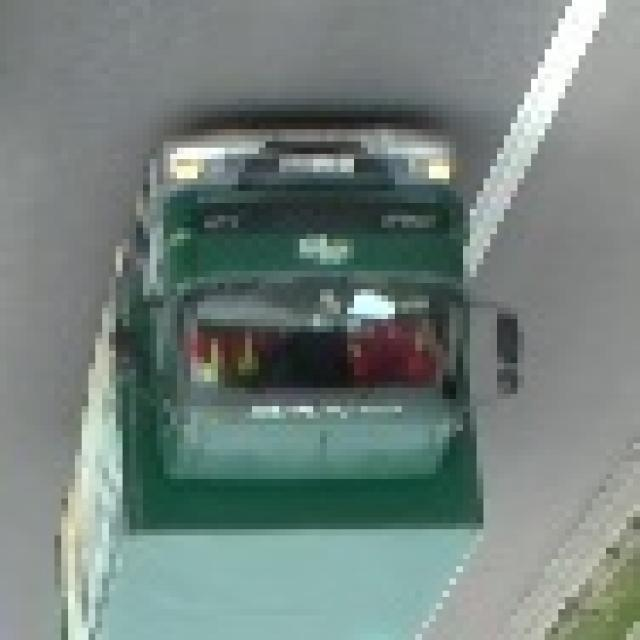Truck: (48, 123, 518, 640)
